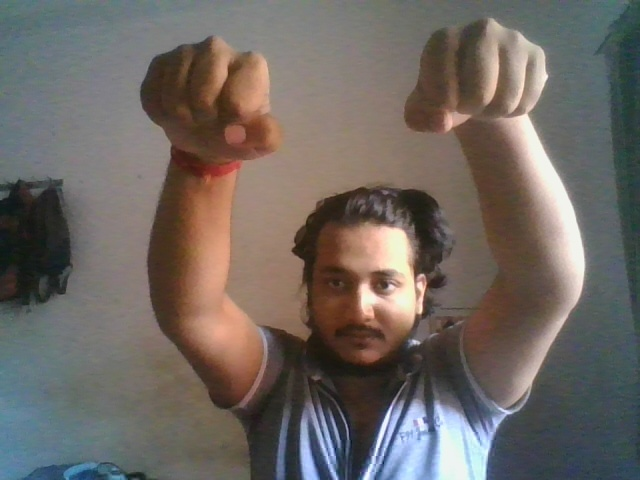Close: (138, 35, 283, 162), (404, 16, 549, 138)
